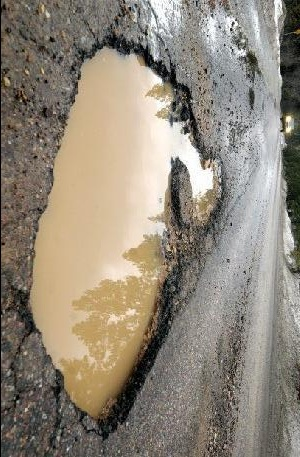pothole: (23, 31, 229, 440)
